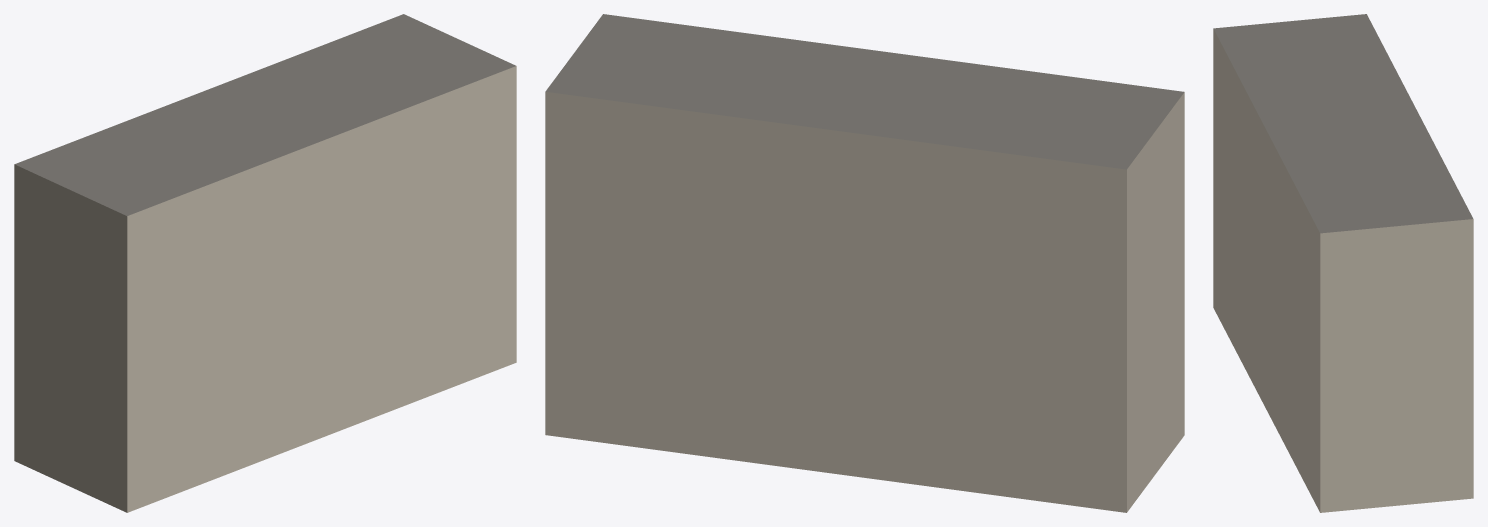
3 renders of one model, left to right at view 1: azimuth 30°, elevation 25°; view 2: azimuth 150°, elevation 25°; view 3: azimuth 270°, elevation 25°, orthographic. The views are drawn at different scales.
Parts seen in each view (by area): view 1: HP-w446936791; view 2: HP-w446936791; view 3: HP-w446936791.
Part boxes in pixels (bbox=[...]): HP-w446936791: bbox=[14, 14, 516, 512]; HP-w446936791: bbox=[545, 14, 1184, 512]; HP-w446936791: bbox=[1213, 14, 1473, 512].
Bounding box in the file's own units: 30.3 × 18 × 15.18.
